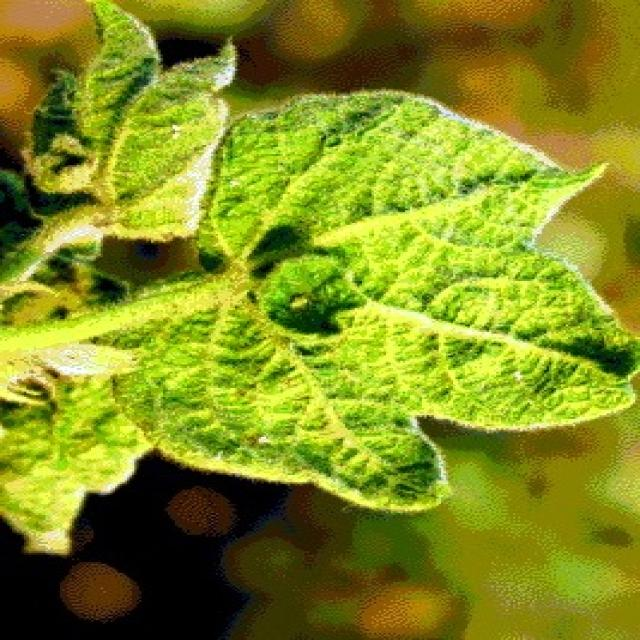Leaf Curl Virus: (32, 111, 553, 435)
